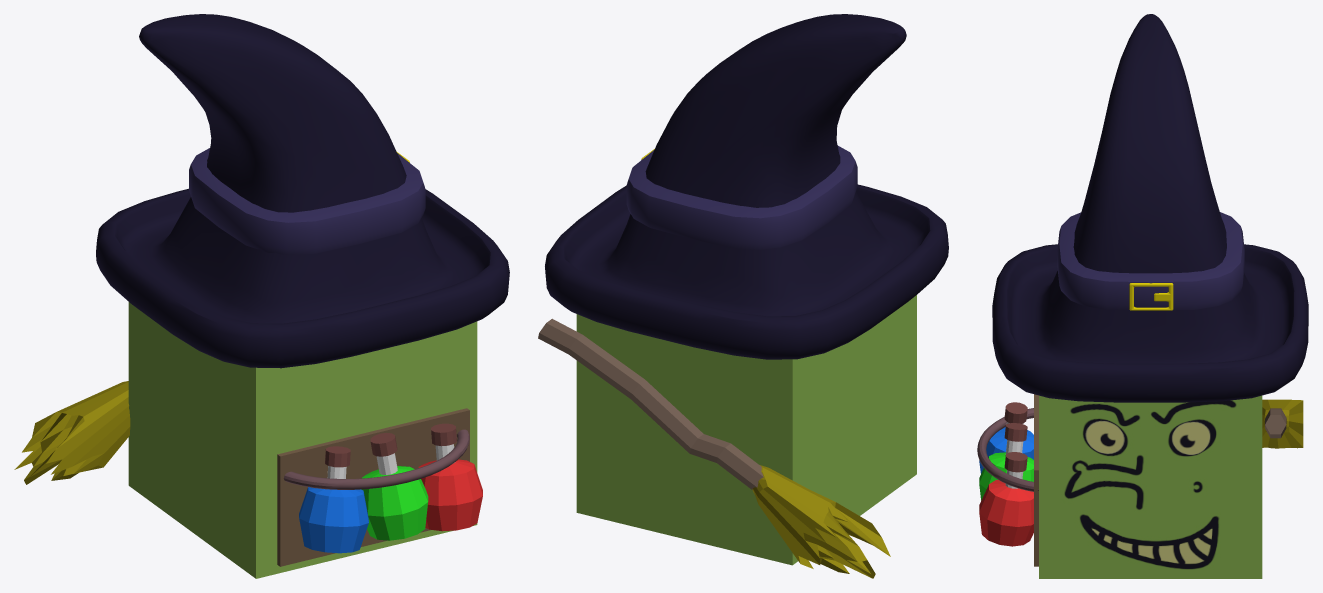
File: leg4.fbx
3 renders of one model, left to right at view 1: azimuth 30°, elevation 25°; view 2: azimuth 150°, elevation 25°; view 3: azimuth 270°, elevation 25°, orthographic. The views are drawn at different scales.
Parts seen in each view (by area): view 1: Cube; view 2: Cube; view 3: Cube.
Boxes of the visible parts, left/top/right/bottom form: Cube: left=14, top=14, right=509, bottom=578; Cube: left=538, top=14, right=948, bottom=578; Cube: left=977, top=14, right=1308, bottom=578.
Size of the model in its own units: 332 by 446 by 297.
